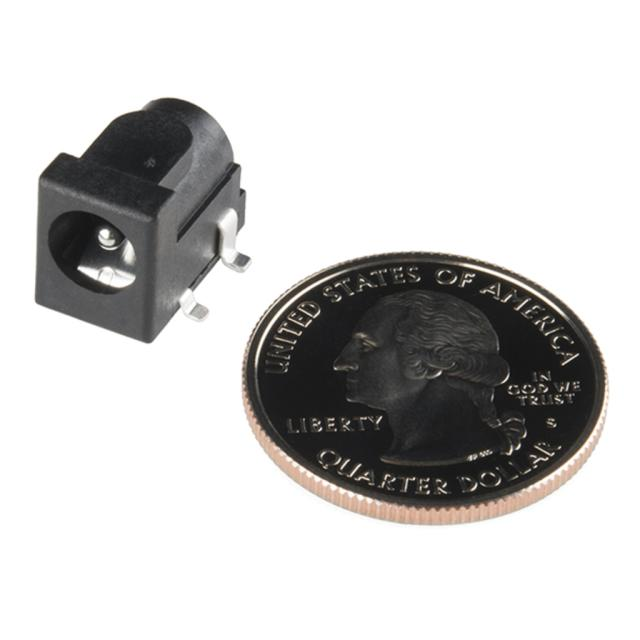Coin: (240, 247, 610, 524)
